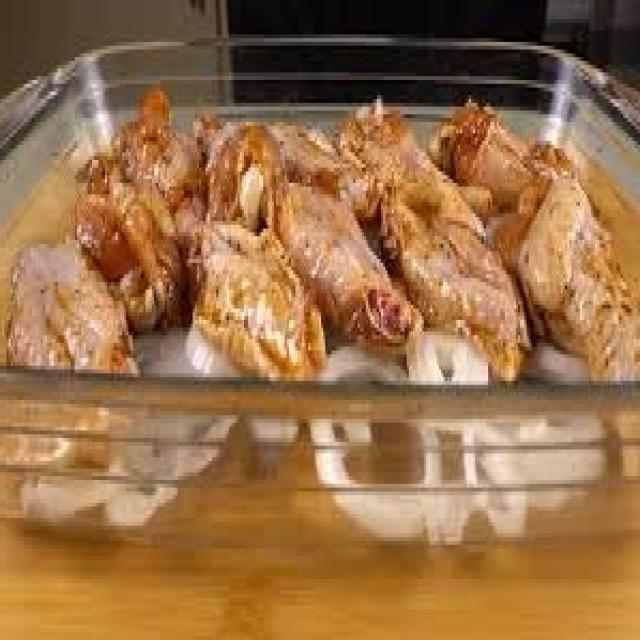Chicken Wings: (11, 80, 623, 350)
Onion Rings: (2, 320, 629, 533)
